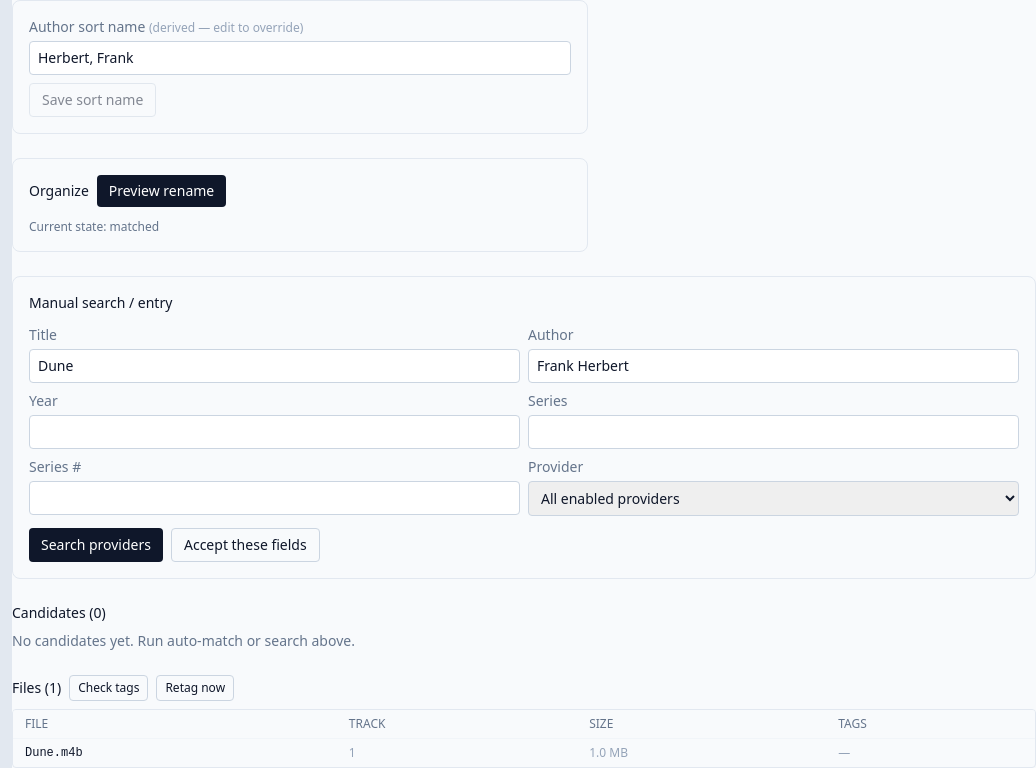
BookDetail files table › checks this book's tags on demand and shows a per-file row
This screenshot has width=1036, height=768.
(page scrolled)
Expected: the column heading "Tags" is shown, x1=826 y1=710 x2=1035 y2=738
Expected: the text "tags differ" is not shown
Click the button "Check tags".
click(109, 688)  # box x1=69 y1=675 x2=148 y2=701
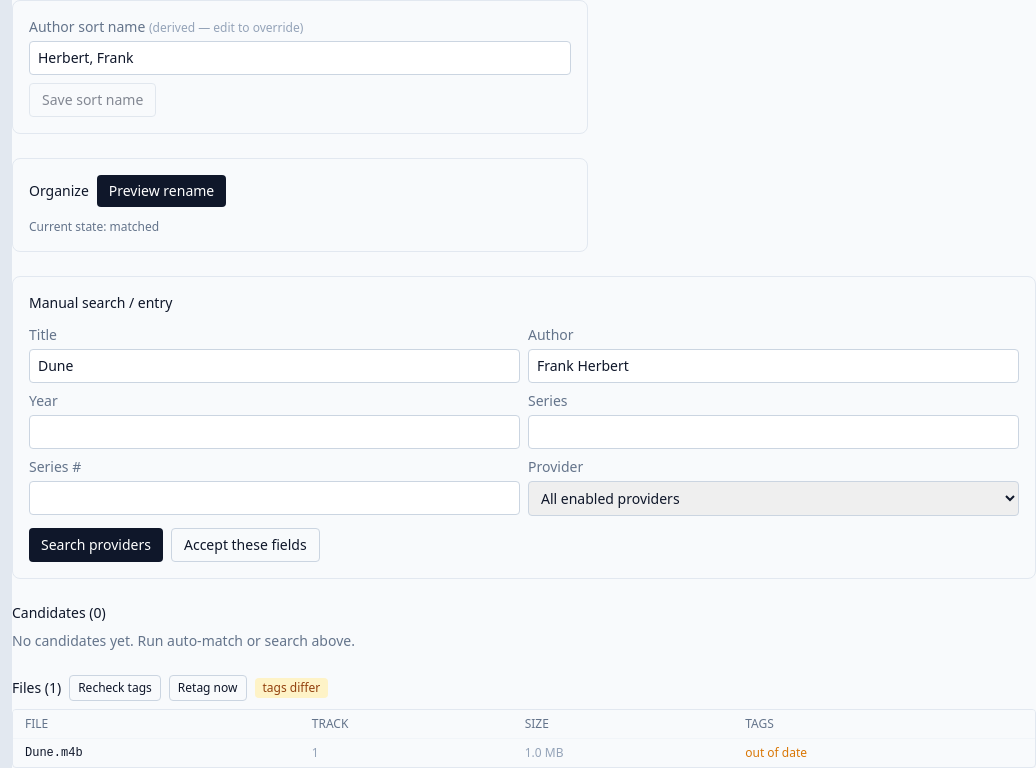
Expected: the text "tags differ" is shown, x1=254 y1=678 x2=328 y2=698
Expected: the row "Dune.m4b 1 1.0 MB out of date" is shown, x1=13 y1=738 x2=1035 y2=767
